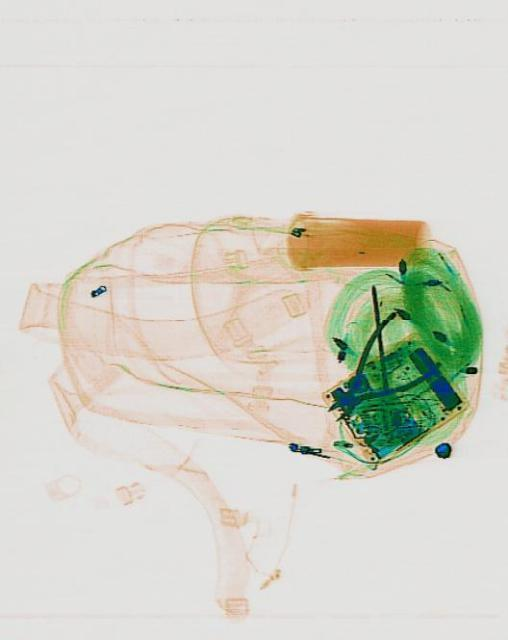Pliers: (306, 298, 443, 448)
